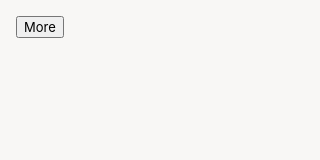
Scenario: Menu › opens on click and on Enter
Step 1. Click the button "More" → point(40, 27), box [16,16,64,38]
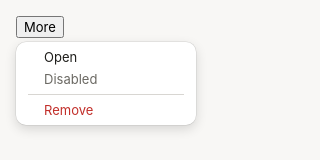
Expected: the menu is shown, [16,42,196,125]
Step 2. Press Escape
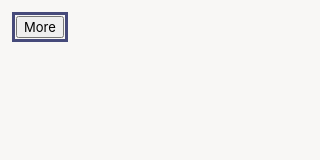
Expected: the menu is gone
Step 3. Press Enter
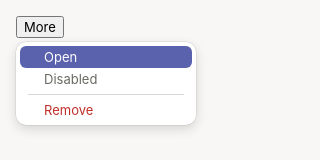
Expected: the menu is shown, [16,42,196,125]
